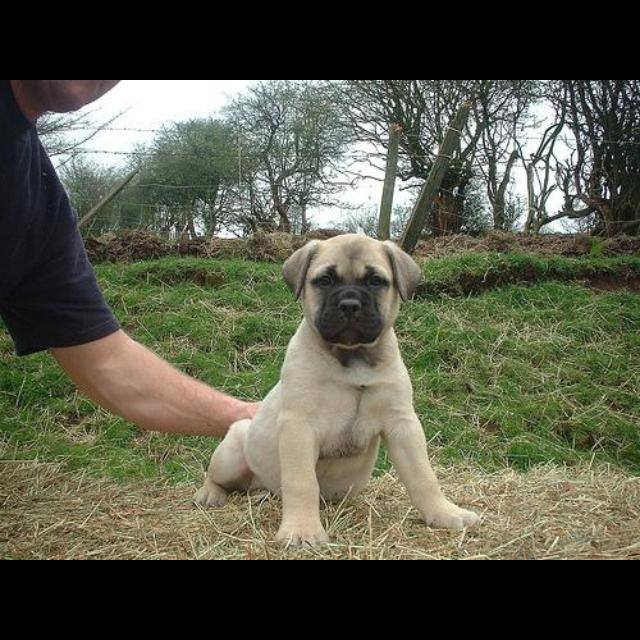bullmastiff: (192, 233, 481, 550)
person: (2, 81, 265, 439)
